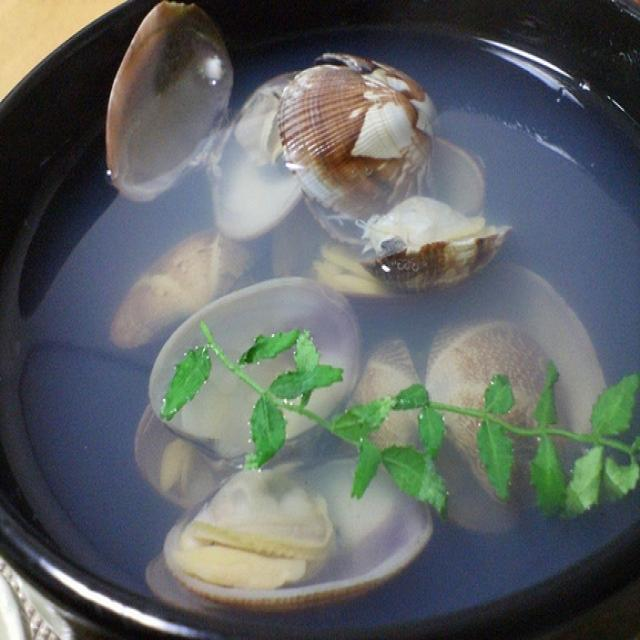汤锅炖物: (20, 24, 629, 615)
